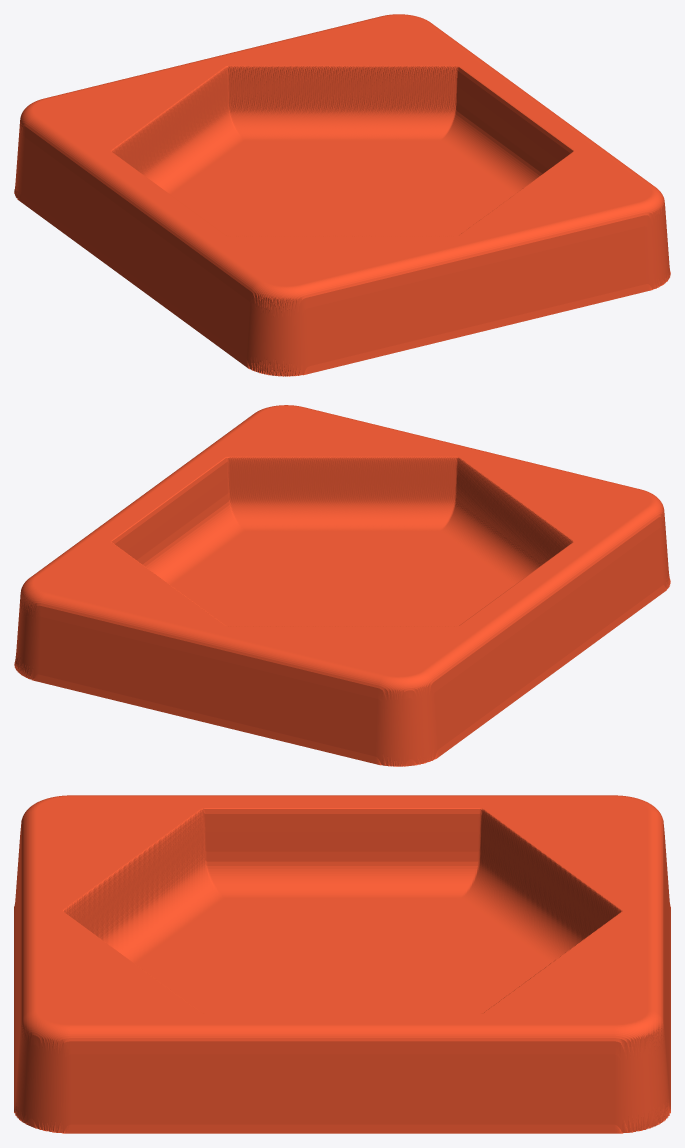
Rendered from mold.glb.
3 renders of one model, top to bottom at view 1: azimuth 30°, elevation 25°; view 2: azimuth 150°, elevation 25°; view 3: azimuth 270°, elevation 25°, orthographic. The views are drawn at different scales.
Parts seen in each view (by area): view 1: geometry_0; view 2: geometry_0; view 3: geometry_0.
Boxes of the visible parts, <box> form: geometry_0: <box>14,14,670,376</box>; geometry_0: <box>14,405,670,766</box>; geometry_0: <box>14,795,670,1133</box>.
Bounding box in the file's own units: 0.0934 × 0.0175 × 0.105.
